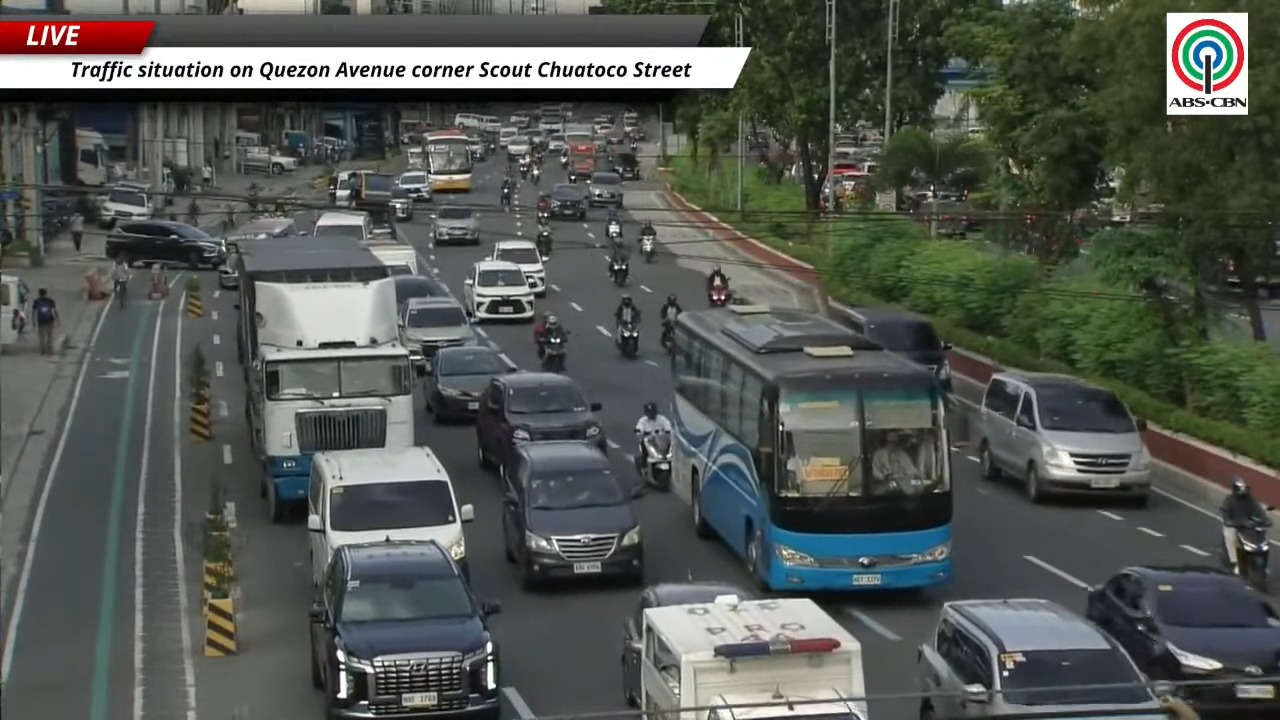bus: (670, 305, 952, 590), (423, 130, 473, 192)
car: (309, 540, 500, 719), (918, 598, 1167, 719), (1086, 566, 1279, 716), (976, 371, 1151, 506), (307, 446, 473, 585), (501, 441, 642, 587), (621, 582, 755, 706), (476, 372, 606, 467), (834, 307, 951, 392), (425, 344, 518, 421), (218, 218, 309, 288), (105, 220, 226, 268), (400, 295, 476, 371), (464, 260, 534, 322), (491, 240, 546, 296), (99, 181, 161, 228), (225, 217, 308, 241), (393, 275, 447, 311), (312, 210, 374, 241), (432, 205, 480, 244), (550, 183, 586, 219), (588, 172, 623, 207), (397, 170, 432, 202), (389, 183, 415, 221), (614, 152, 641, 180), (506, 134, 531, 159), (467, 133, 488, 161), (623, 117, 646, 140), (526, 128, 548, 151), (498, 125, 520, 148), (538, 114, 564, 132), (547, 133, 565, 152), (508, 113, 529, 127)
motorcycle: (1235, 517, 1271, 591), (643, 432, 672, 492), (541, 335, 566, 372), (617, 323, 639, 358), (708, 282, 729, 307), (535, 232, 552, 262), (610, 260, 628, 286), (640, 235, 656, 263), (660, 320, 673, 353), (246, 190, 260, 213), (606, 221, 621, 239), (501, 187, 511, 209), (531, 166, 540, 185), (537, 209, 549, 222), (519, 164, 528, 179), (560, 154, 569, 168)
truck: (231, 237, 415, 521), (632, 595, 867, 719), (350, 172, 411, 235), (75, 128, 111, 186), (366, 239, 420, 275), (239, 146, 298, 174), (567, 142, 595, 182)
